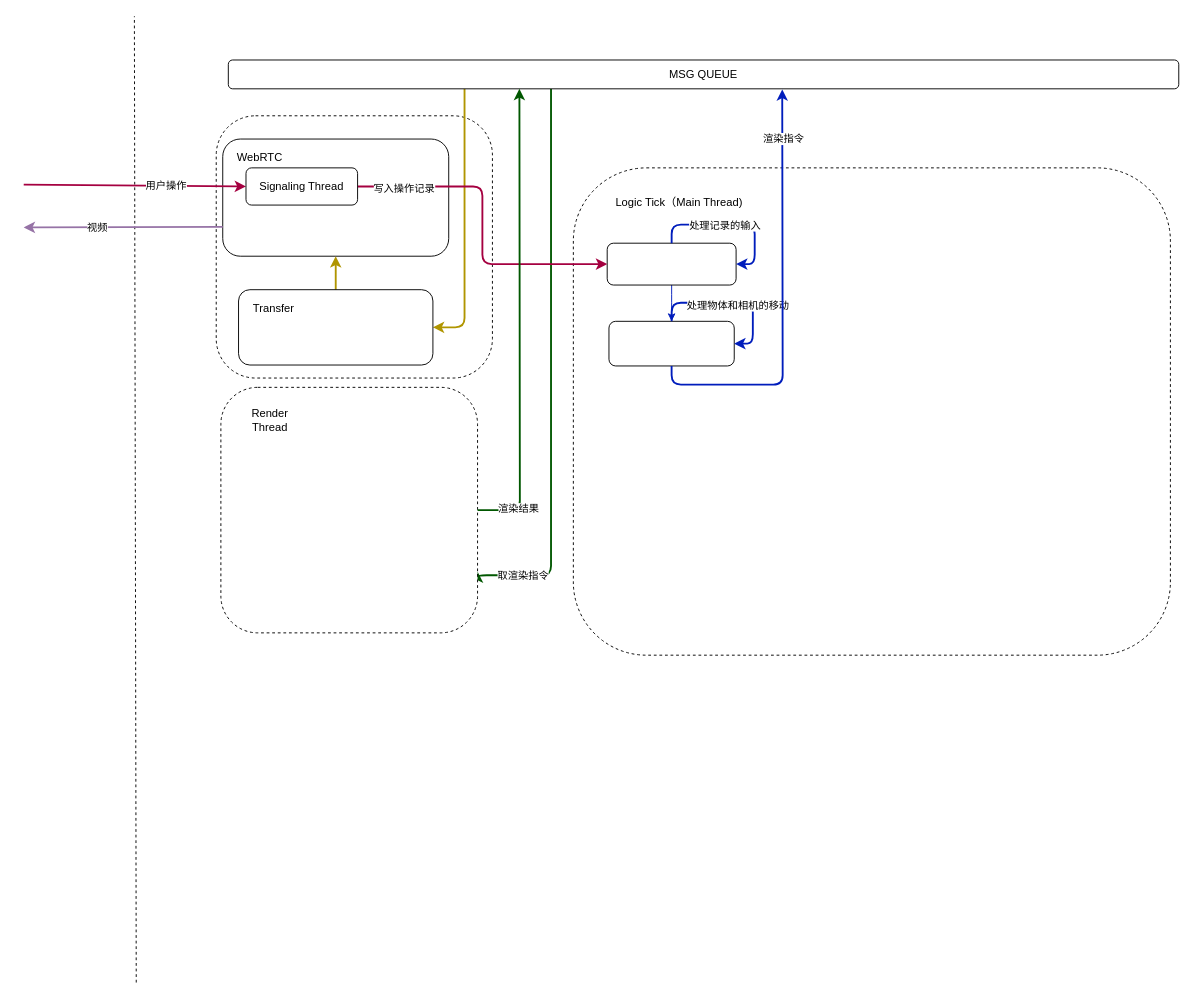
Some shapes in this 1195 by 1000 pixel diagram are drawn without their labels. Here are the shapes that lost their labels. From the top down, the box of each, then its label:
(606, 242, 736, 285): InputSysytem
(608, 320, 734, 366): World System
